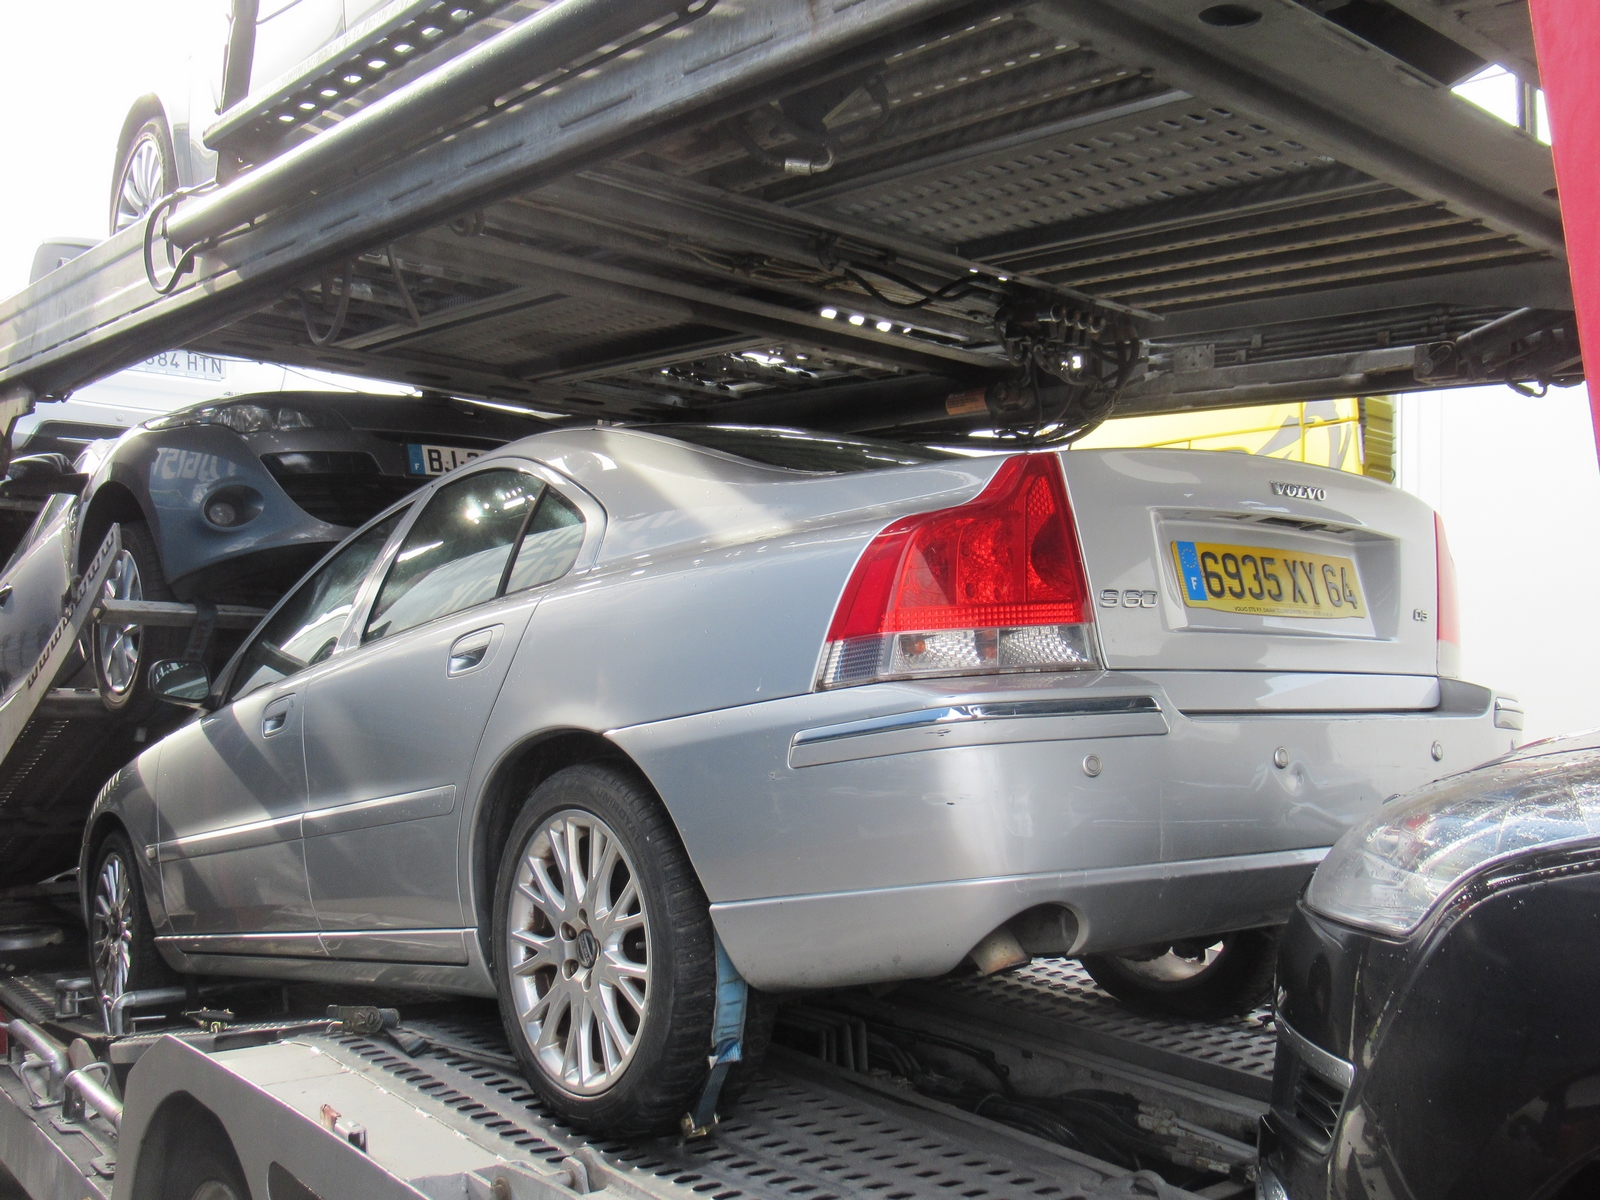licence plate: (1168, 536, 1373, 624)
